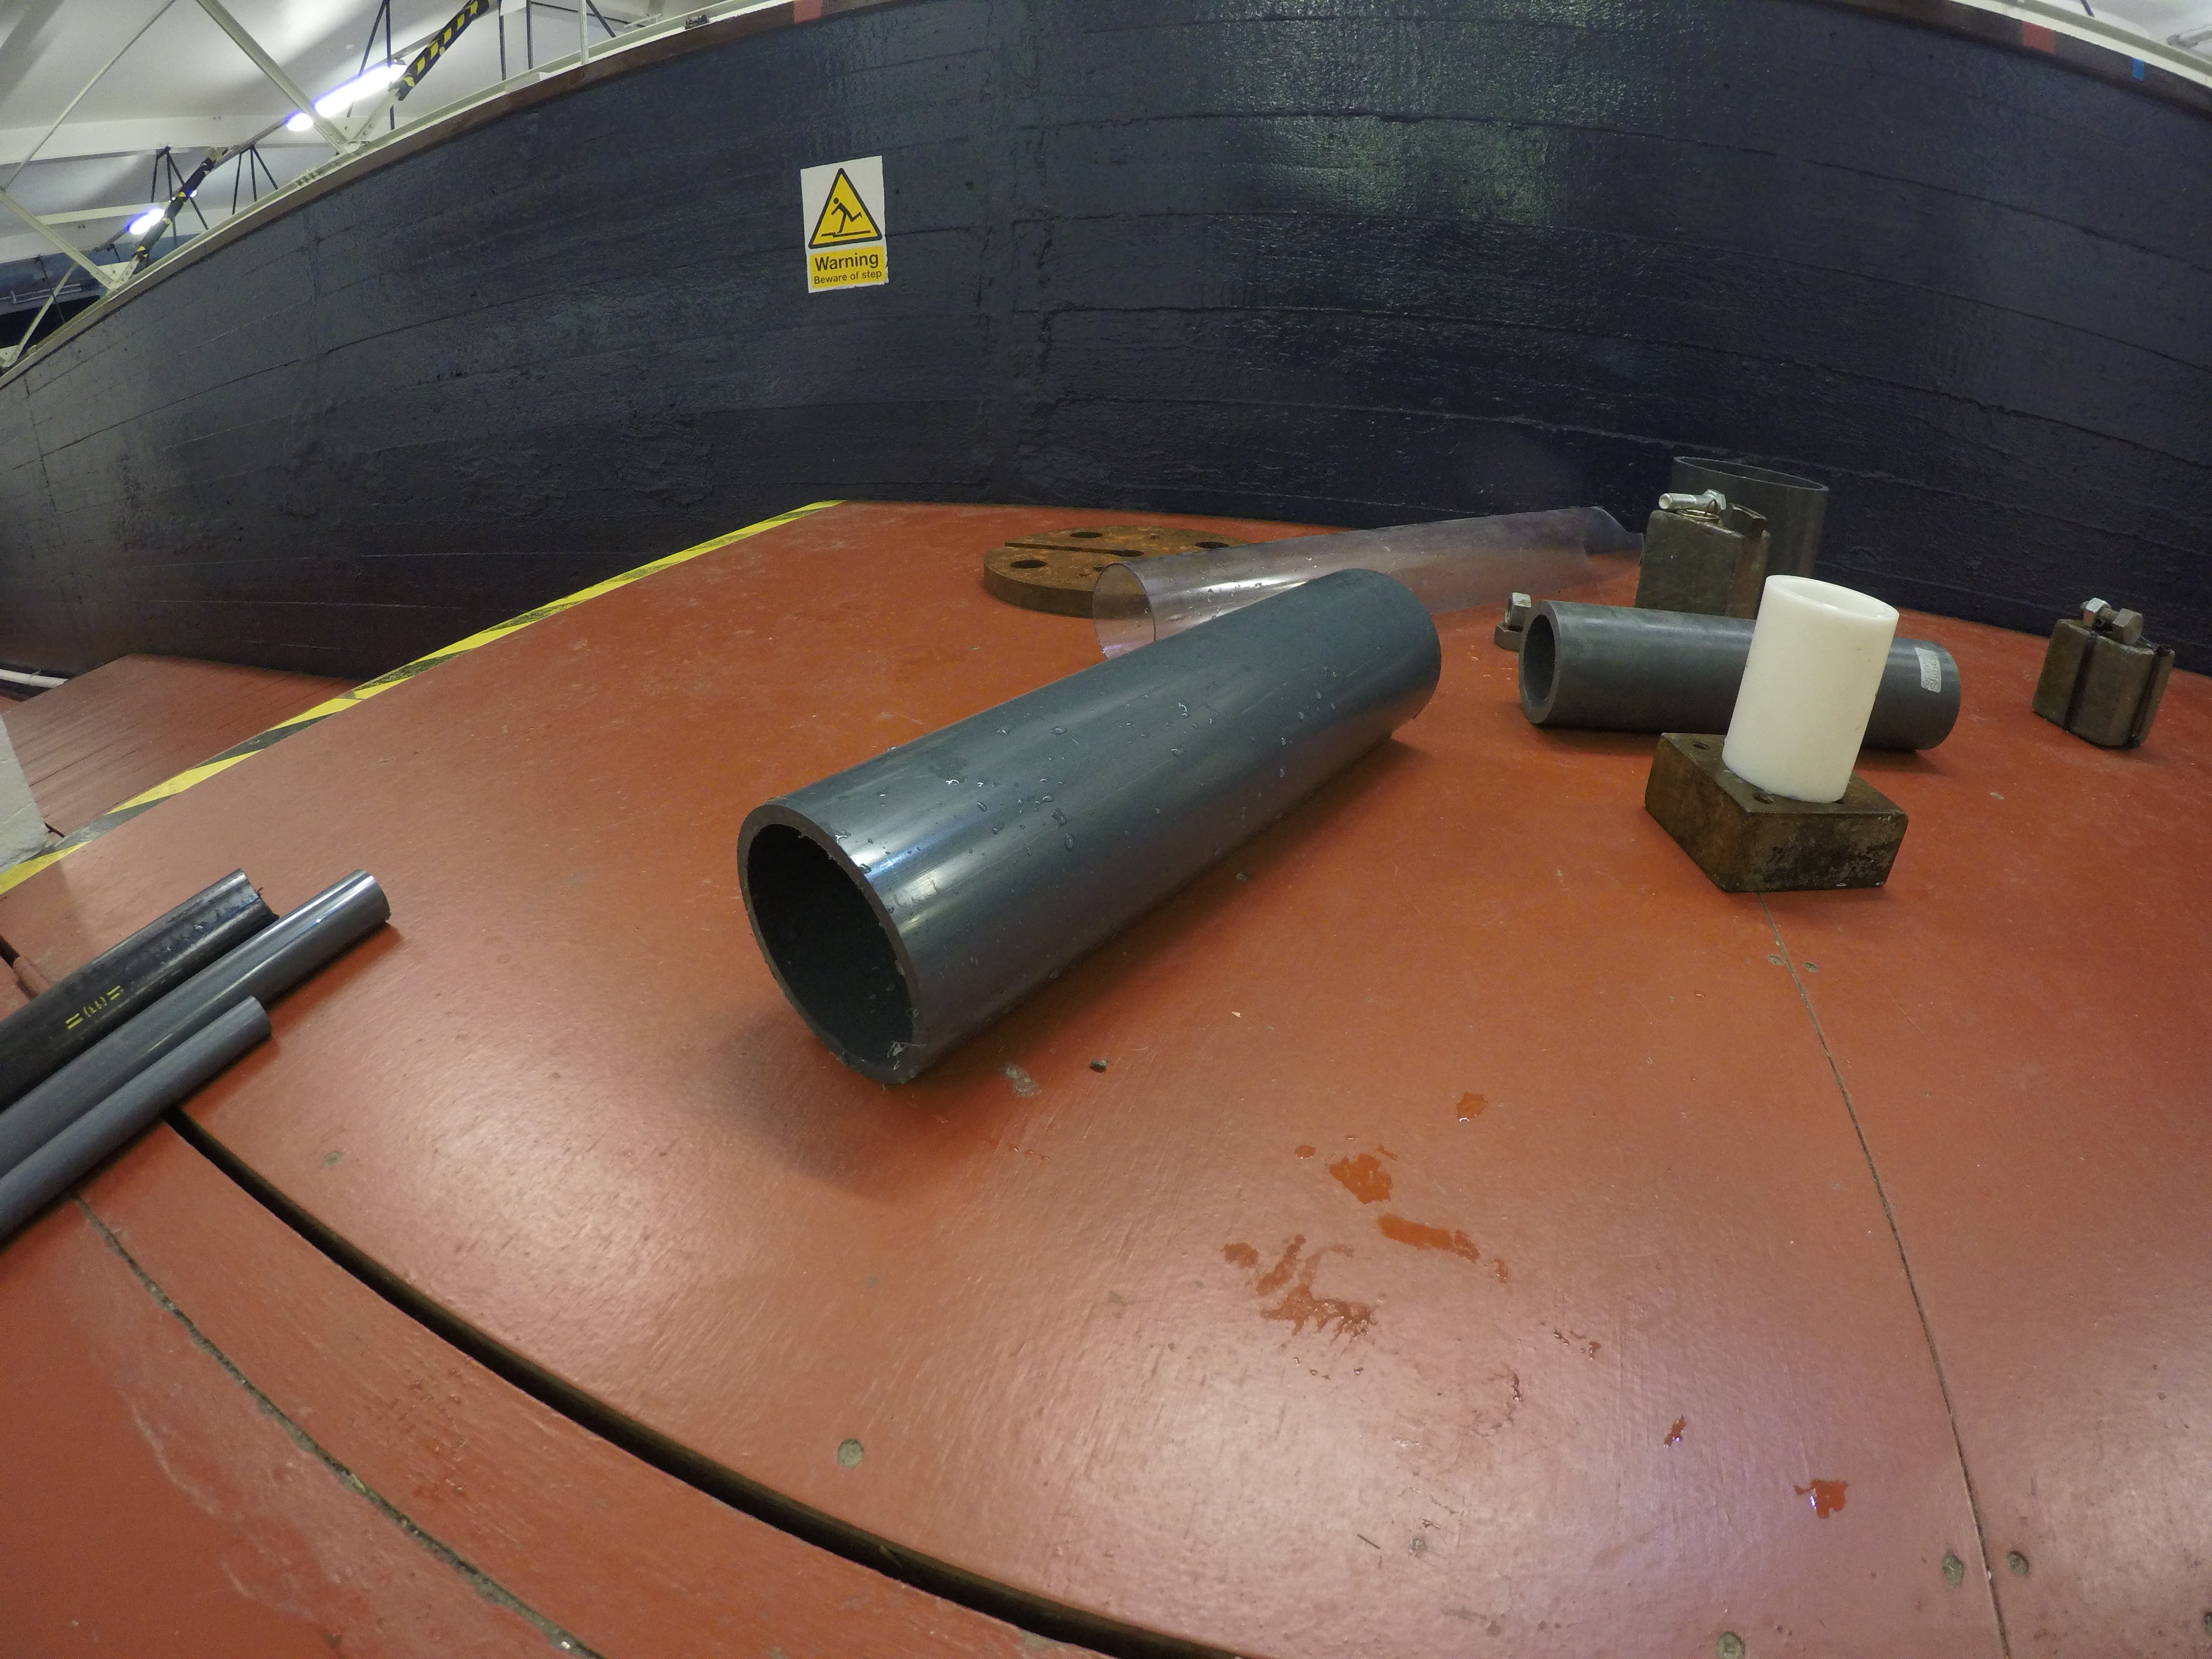bolt: (2080, 601, 2146, 643), (1658, 488, 1726, 511)
flange: (984, 523, 1263, 615)
led_block: (1644, 732, 1907, 892), (2031, 619, 2175, 748), (1634, 507, 1771, 617)
nut: (1726, 502, 1768, 538), (2081, 596, 2109, 629), (1507, 591, 1531, 627), (1493, 624, 1522, 648)
pipe: (738, 566, 1442, 1086), (0, 873, 390, 1169), (1089, 502, 1642, 659), (1517, 598, 1965, 755), (0, 995, 272, 1237), (0, 864, 279, 1094), (1717, 570, 1902, 805), (1670, 453, 1831, 577)
